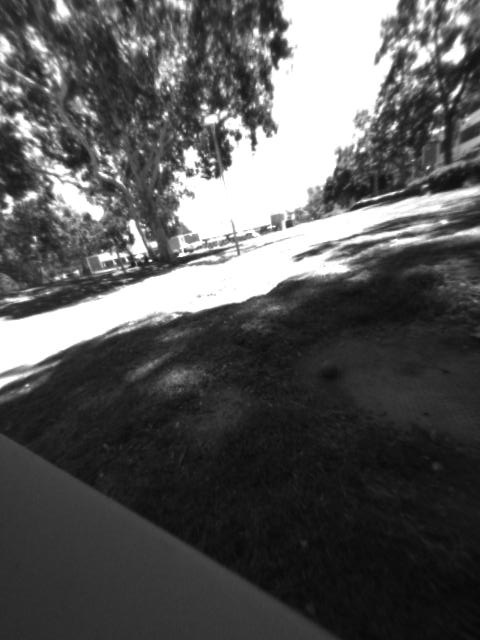dogtoy: (313, 350, 354, 387)
